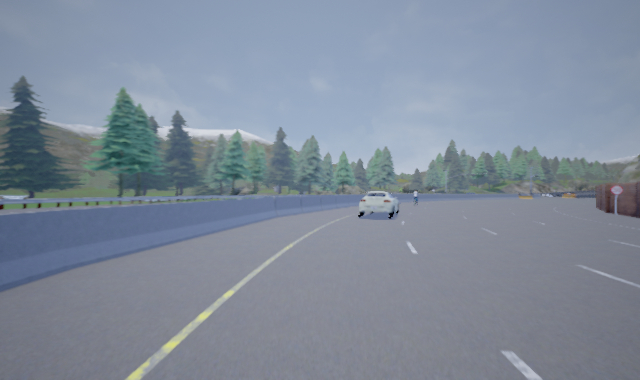bike: (412, 188, 424, 207)
traffic_sign: (608, 184, 625, 195)
vehicle: (358, 190, 400, 218)
